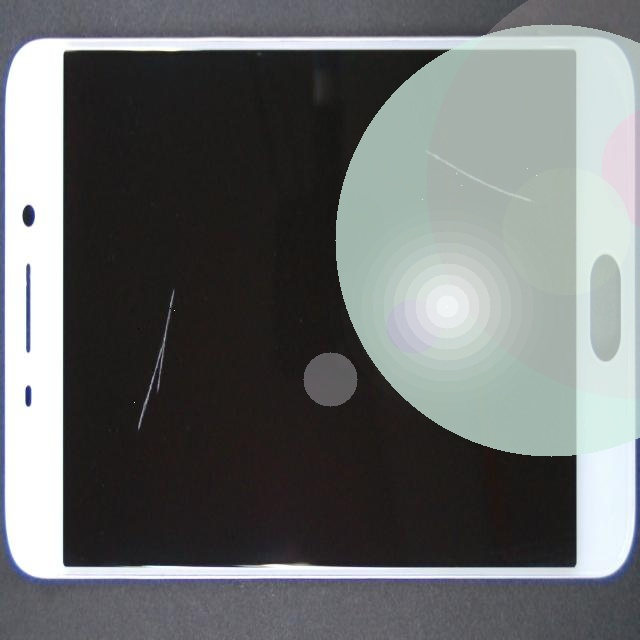scratch: (155, 67, 640, 282), (62, 208, 198, 640)
